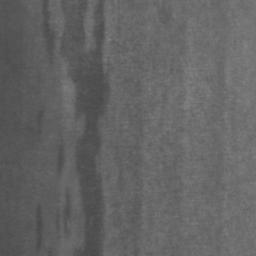Inclusion: (61, 0, 111, 256)
